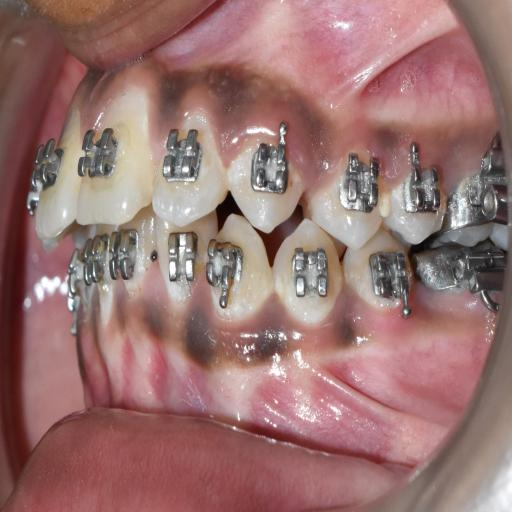correct_brace: (309, 146, 388, 248), (276, 218, 342, 324), (248, 121, 291, 204), (206, 237, 250, 318), (365, 250, 413, 317), (162, 125, 208, 188), (80, 123, 123, 188), (291, 240, 332, 305)
incorrect_brace: (155, 106, 227, 227), (339, 151, 380, 226)
